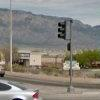Traffic light: (50, 15, 77, 53)
